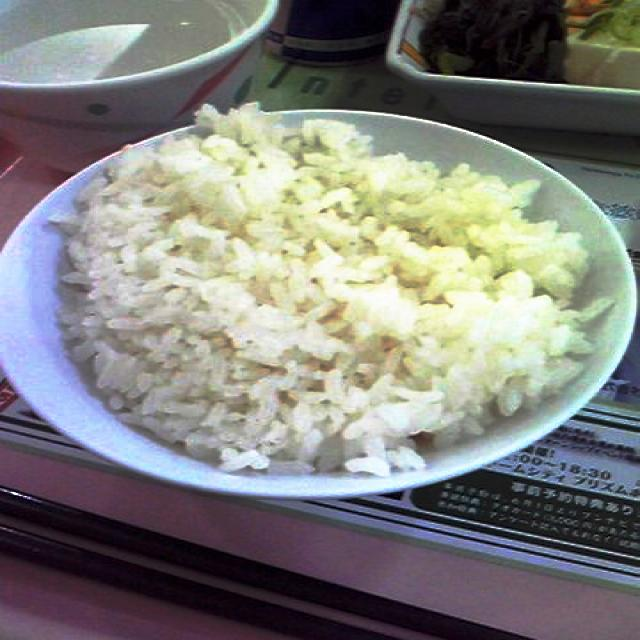rice: (50, 100, 617, 475)
